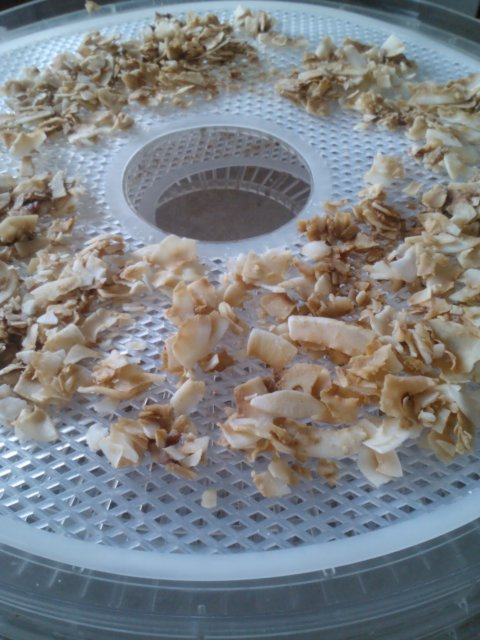bacon: (283, 264, 444, 441), (287, 33, 450, 143)
